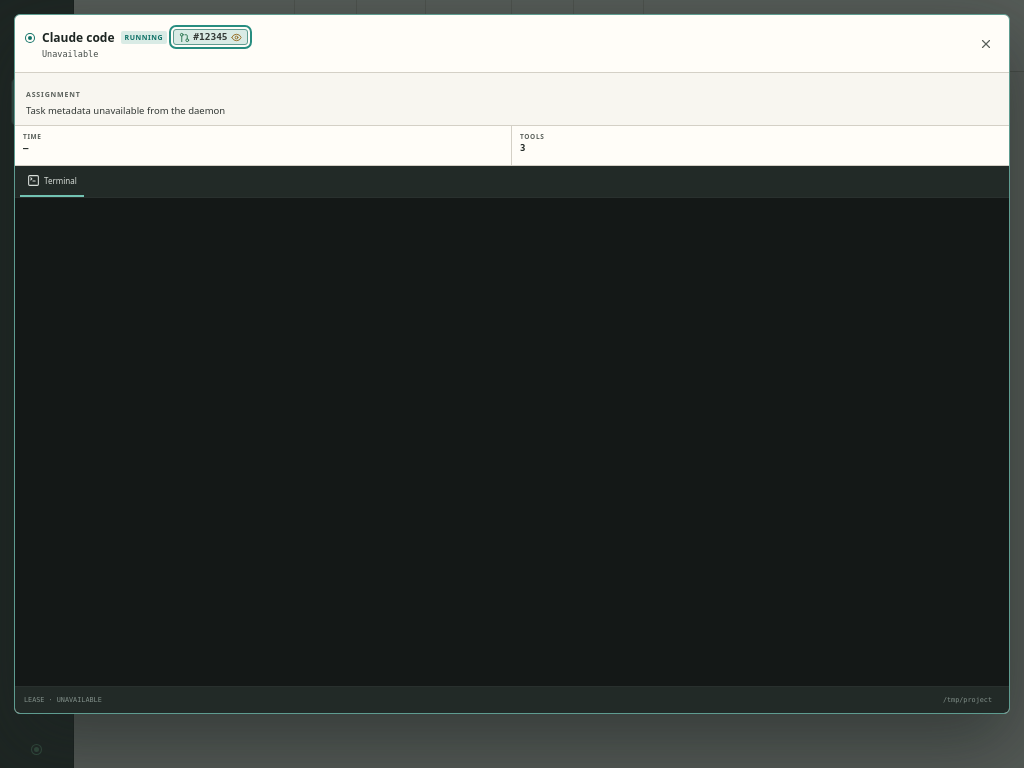
it: PRD #1401 — the in-app pull request browser › closes back to the agent's screen and the control that opened it
Step 1. Click the button with test id "pr-badge-7" → (210, 37), box [173,29,248,45]
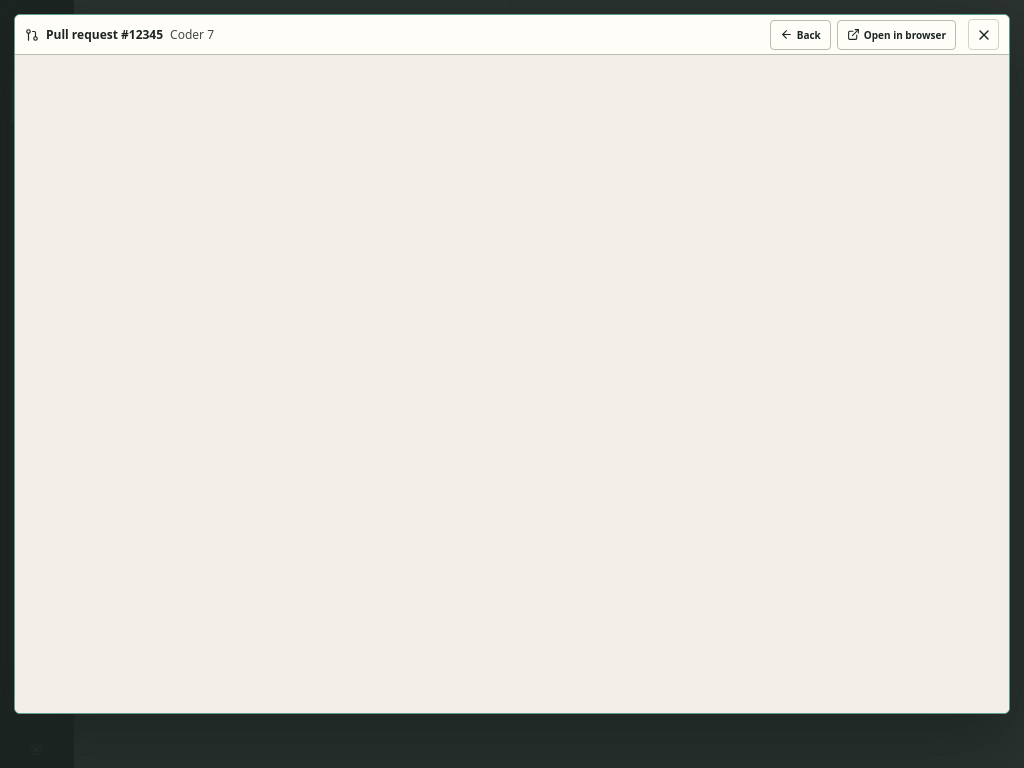
Step 2. Click the button named "Close pull request" → (984, 34), box [968,19,999,50]
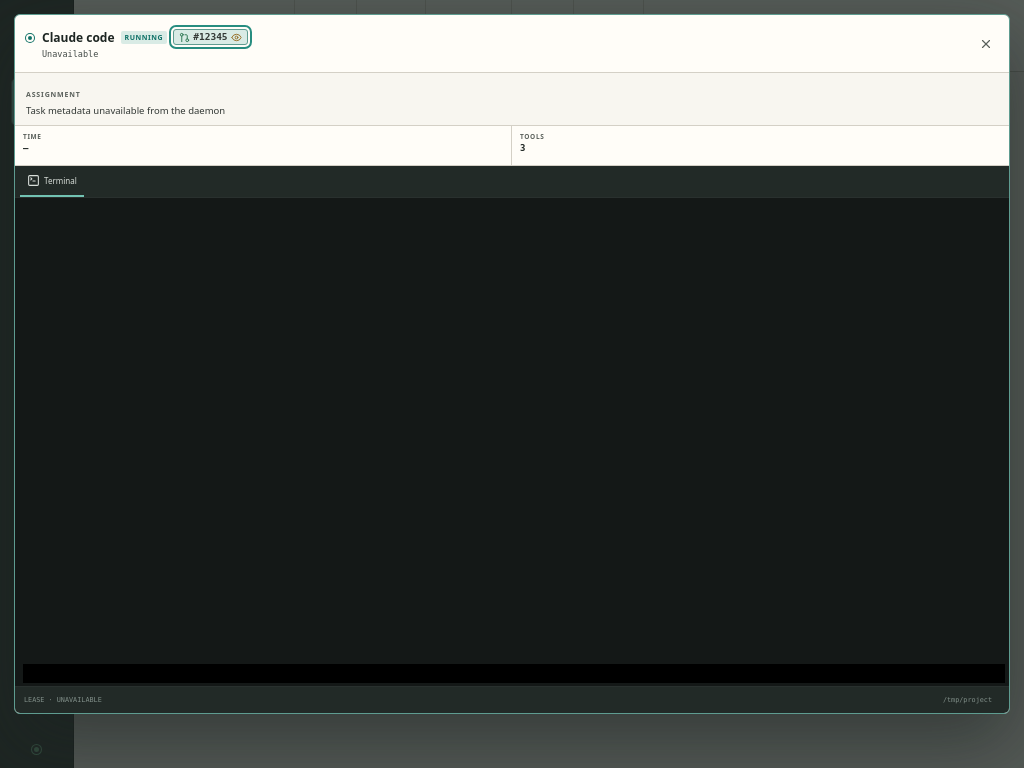
Check: the dialog with test id "pr-browser" is gone
